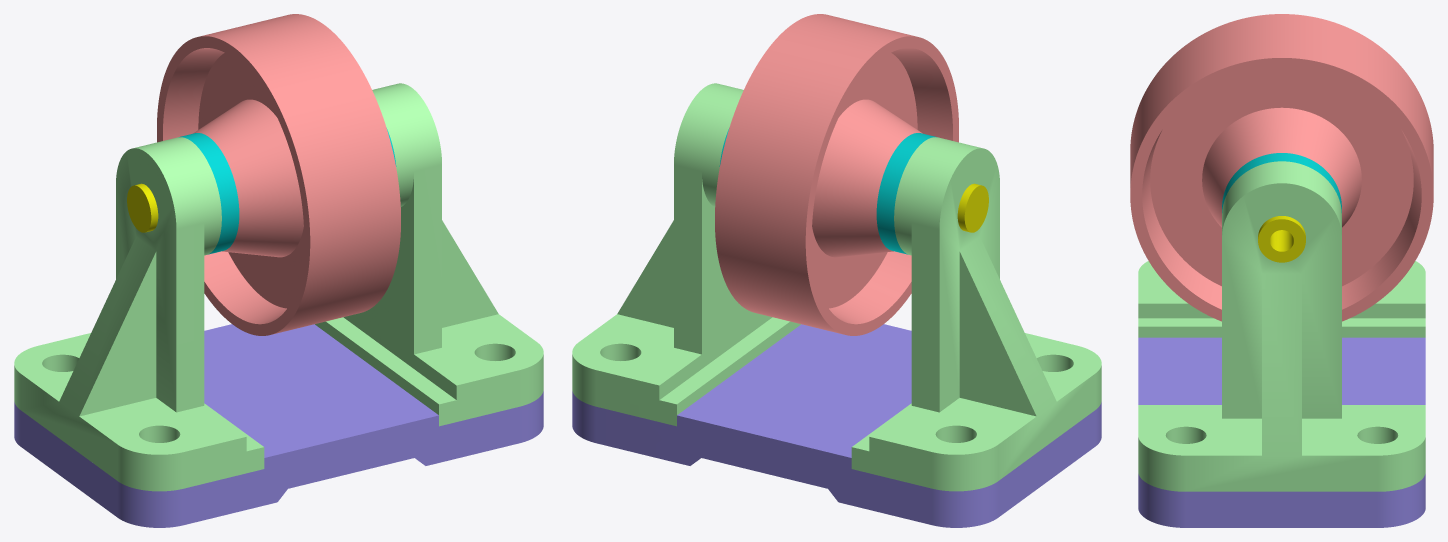
File: assemblyfb.glb
3 renders of one model, left to right at view 1: azimuth 30°, elevation 25°; view 2: azimuth 150°, elevation 25°; view 3: azimuth 270°, elevation 25°, orthographic.
Visible parts, largest first — view 1: Pocket.003, Pad.4, Pocket.1, Pad.001, Pad.3, Pocket.2; view 2: Pocket.003, Pad.4, Pocket.1, Pad.001, Pad.3, Pocket.2; view 3: Pocket.003, Pad.001, Pocket.1, Pad.4, Pocket.2, Pad.002.
Part boxes in pixels (box(x1,y1,x2,y2)): Pocket.003: box(157, 14, 400, 335); Pad.4: box(14, 137, 264, 491); Pocket.1: box(14, 324, 543, 527); Pad.001: box(315, 83, 543, 426); Pad.3: box(179, 133, 239, 254); Pocket.2: box(127, 183, 158, 232); Pocket.003: box(715, 14, 958, 335); Pad.4: box(851, 137, 1101, 491); Pocket.1: box(572, 324, 1101, 527); Pad.001: box(572, 83, 800, 426); Pad.3: box(876, 133, 936, 254); Pocket.2: box(957, 183, 988, 232); Pocket.003: box(1130, 14, 1433, 321); Pad.001: box(1138, 161, 1425, 491); Pocket.1: box(1138, 337, 1425, 527); Pad.4: box(1138, 261, 1425, 337); Pocket.2: box(1258, 216, 1305, 262); Pad.002: box(1222, 153, 1341, 212).
Size of the model in its own units: 0.12 by 0.108 by 0.076.
